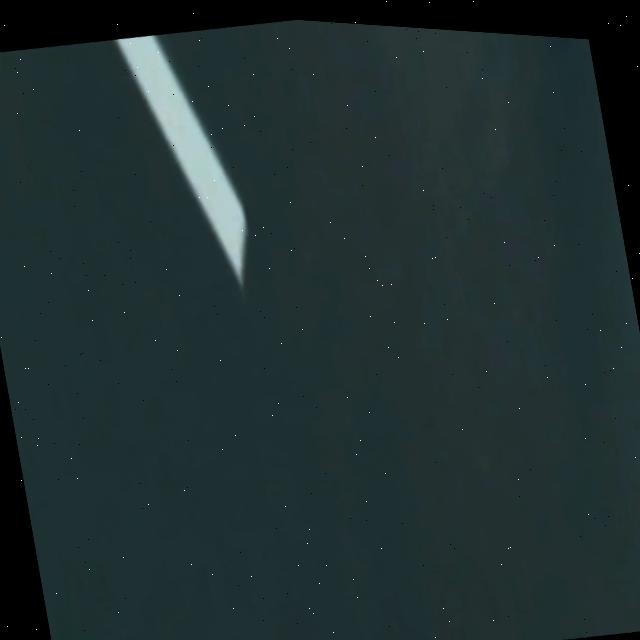center: (113, 35, 246, 287)
